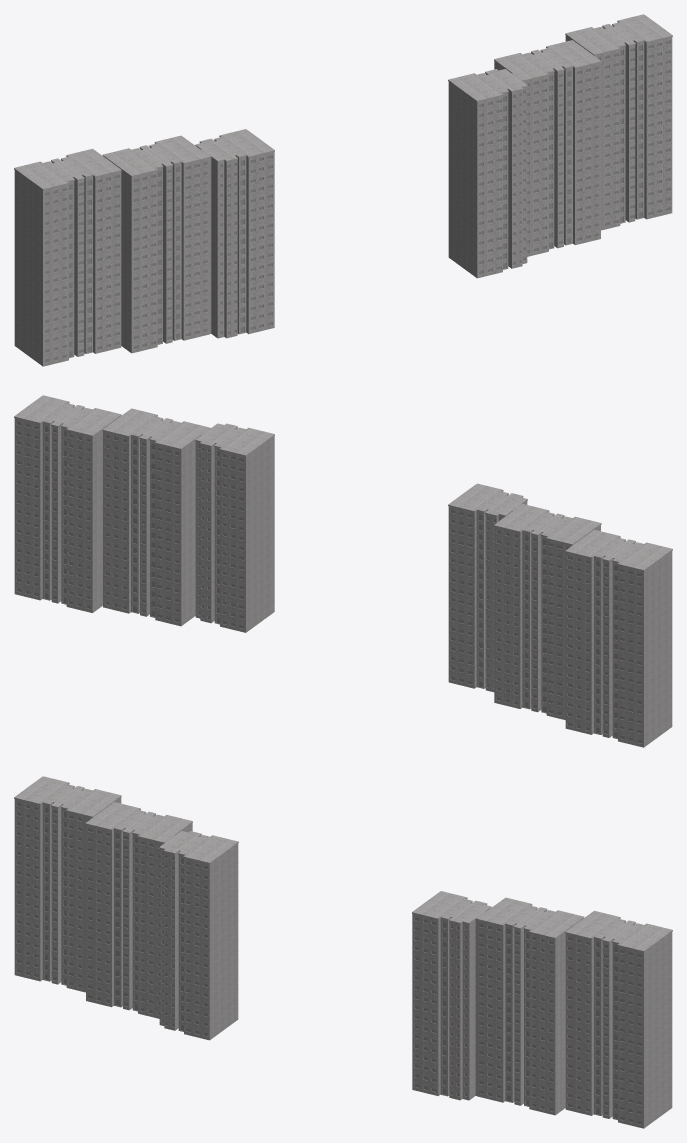
Rendered from BLD-26.FBX.
3 renders of one model, top to bottom at view 1: azimuth 30°, elevation 25°; view 2: azimuth 150°, elevation 25°; view 3: azimuth 330°, elevation 25°, orthographic.
Visible parts, largest first — view 1: Plane043; view 2: Plane043; view 3: Plane043.
Part boxes in pixels (x1,y1,x2,y2): Plane043: (14, 14, 672, 366); Plane043: (14, 395, 672, 747); Plane043: (14, 776, 672, 1128).
Bounding box in the file's own units: 160 × 43.02 × 20.71.
